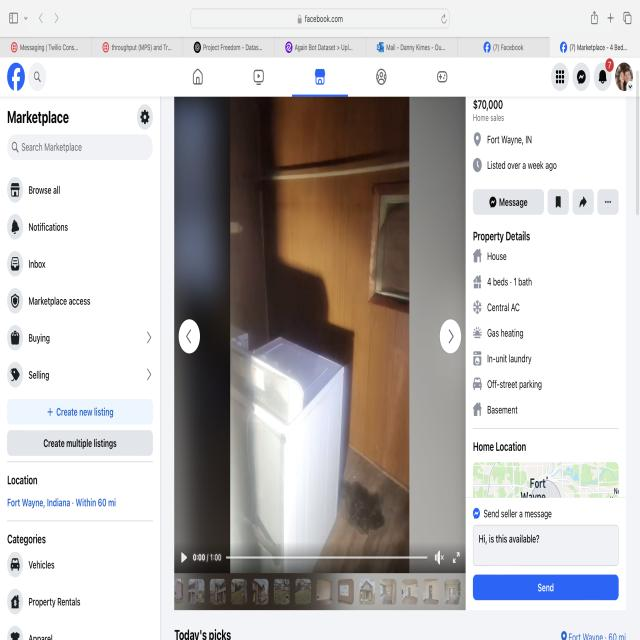message_button: (473, 574, 617, 601)
